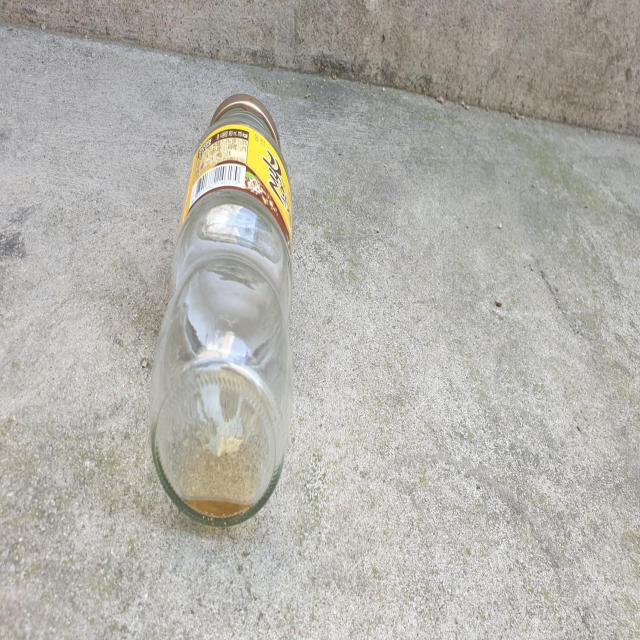glass: (149, 92, 292, 526)
